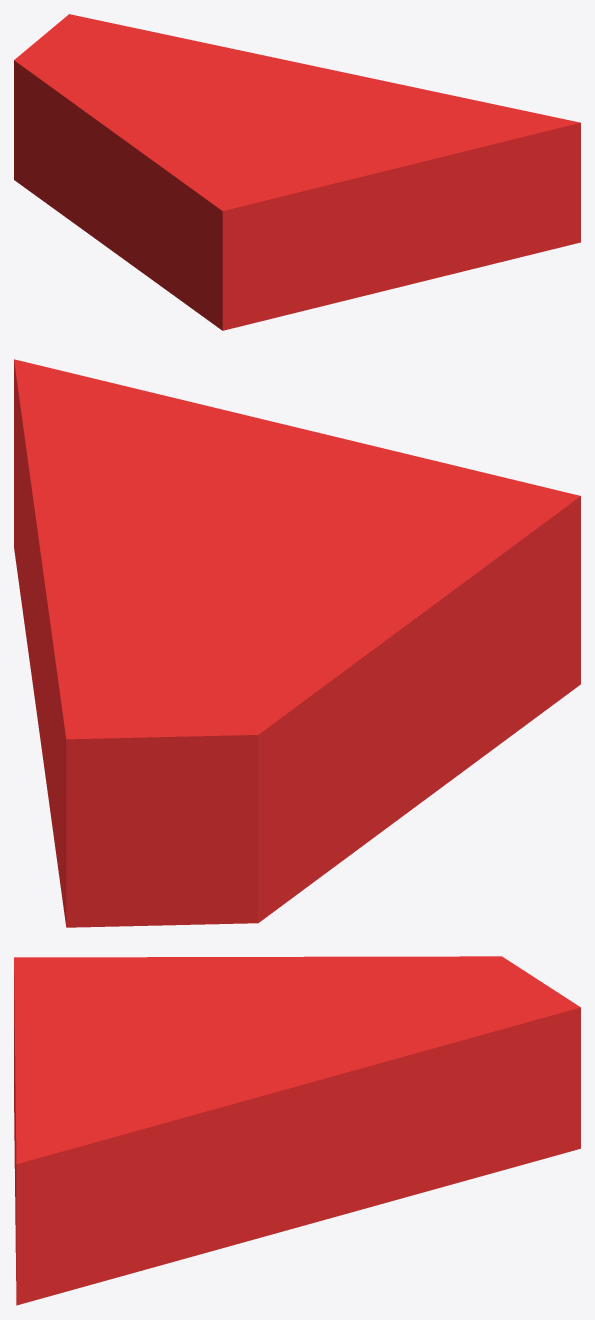
Rendered from red.fbx.
The picture shows the model from 3 angles, top to bottom: view 1: azimuth 30°, elevation 25°; view 2: azimuth 150°, elevation 25°; view 3: azimuth 270°, elevation 25°; orthographic projection. The views are drawn at different scales.
Visible parts, largest first — view 1: Curve.002; view 2: Curve.002; view 3: Curve.002.
Part boxes in pixels (x1,y1,x2,y2): Curve.002: (14, 14, 580, 330); Curve.002: (14, 359, 580, 927); Curve.002: (14, 956, 580, 1305).
Bounding box in the file's own units: 9.47 × 3 × 10.91.
